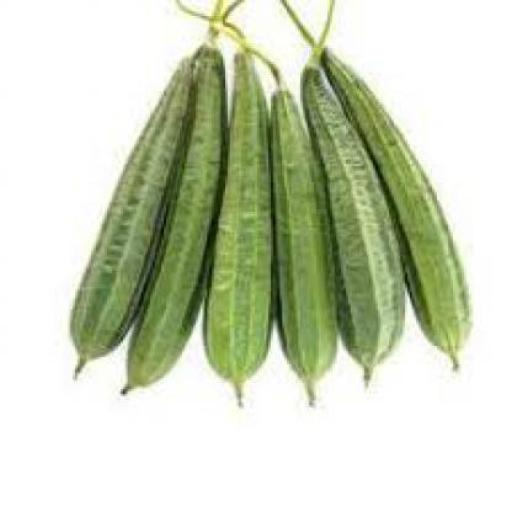biodegradable: (279, 0, 469, 369), (68, 43, 200, 375), (118, 0, 225, 394), (298, 0, 404, 388), (246, 45, 334, 403), (201, 18, 273, 405)
